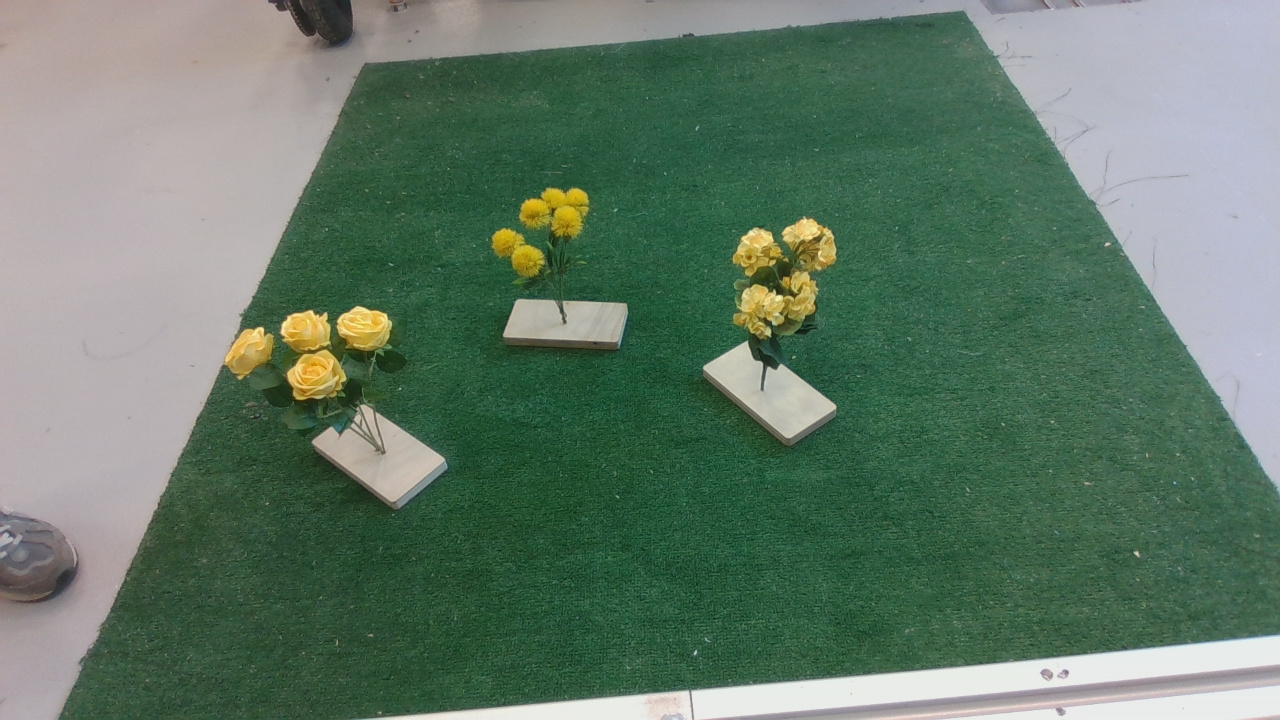dandelion: (492, 187, 606, 303)
geranium: (725, 217, 847, 380)
rose: (226, 301, 429, 447)
